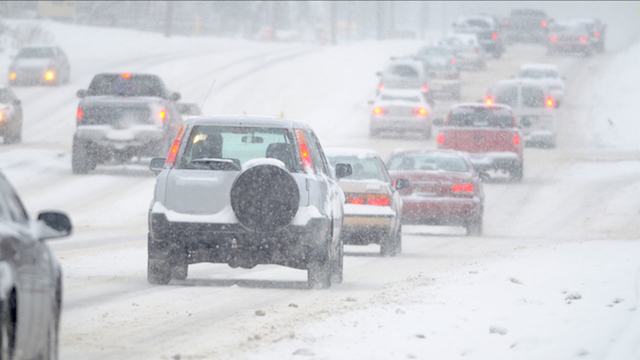car: (146, 113, 353, 293), (384, 147, 488, 238), (327, 147, 408, 256), (367, 89, 435, 143)
truck: (72, 70, 180, 173), (435, 104, 532, 184)
